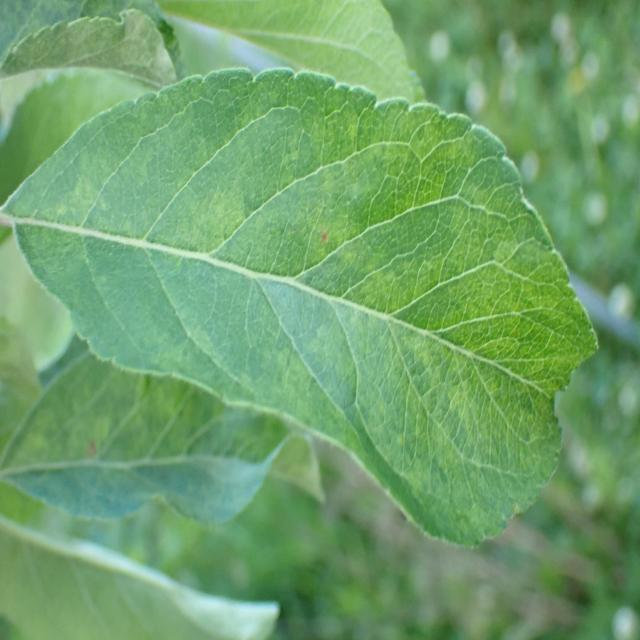scab: (31, 88, 580, 476)
